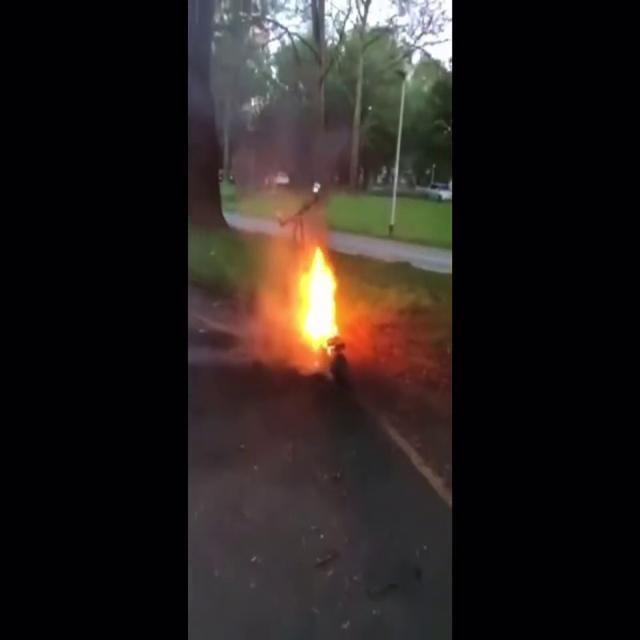Fire: (296, 240, 344, 354)
Smoke: (188, 0, 306, 178), (242, 240, 298, 366)
